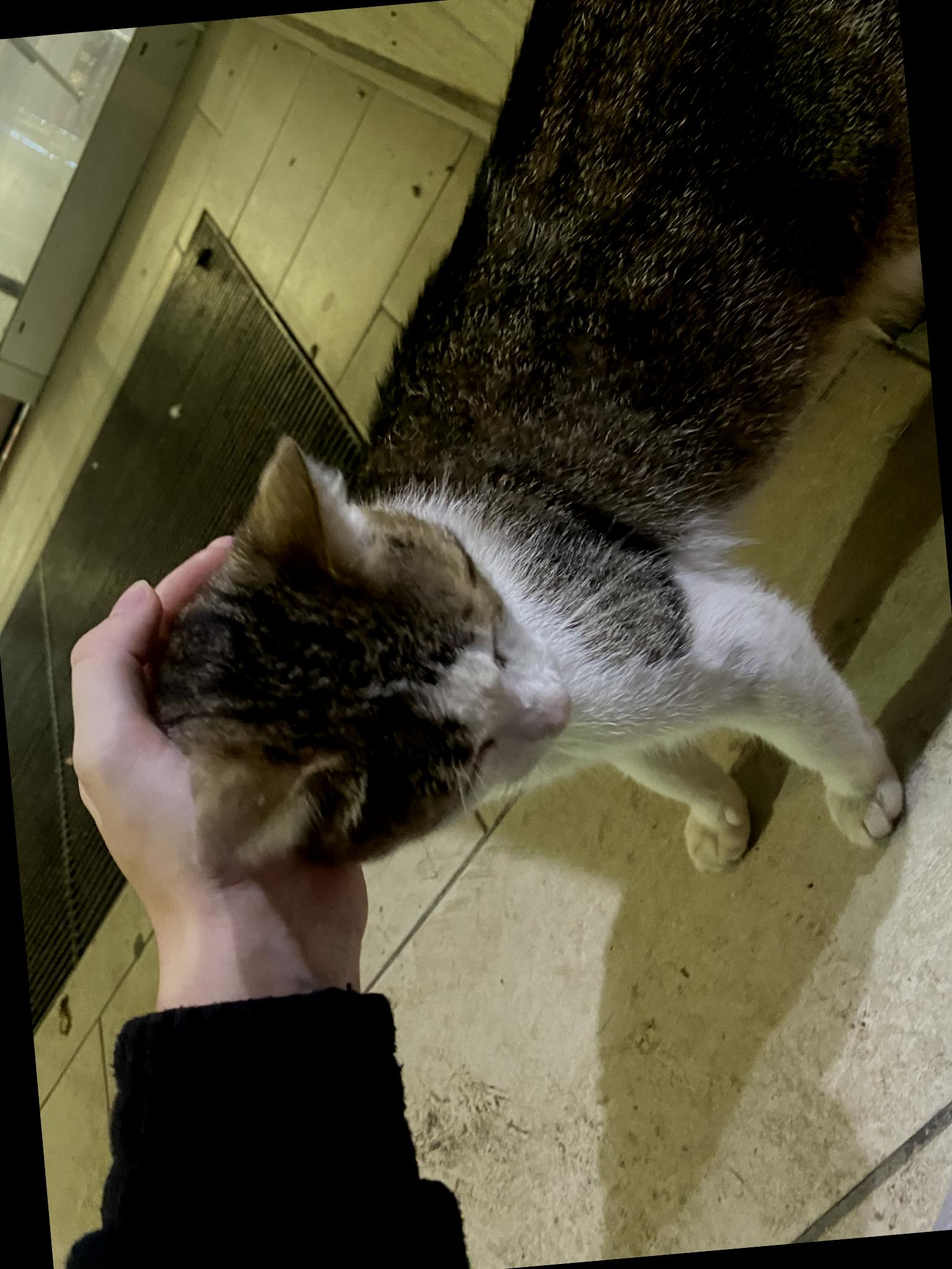macka: (83, 0, 952, 920)
